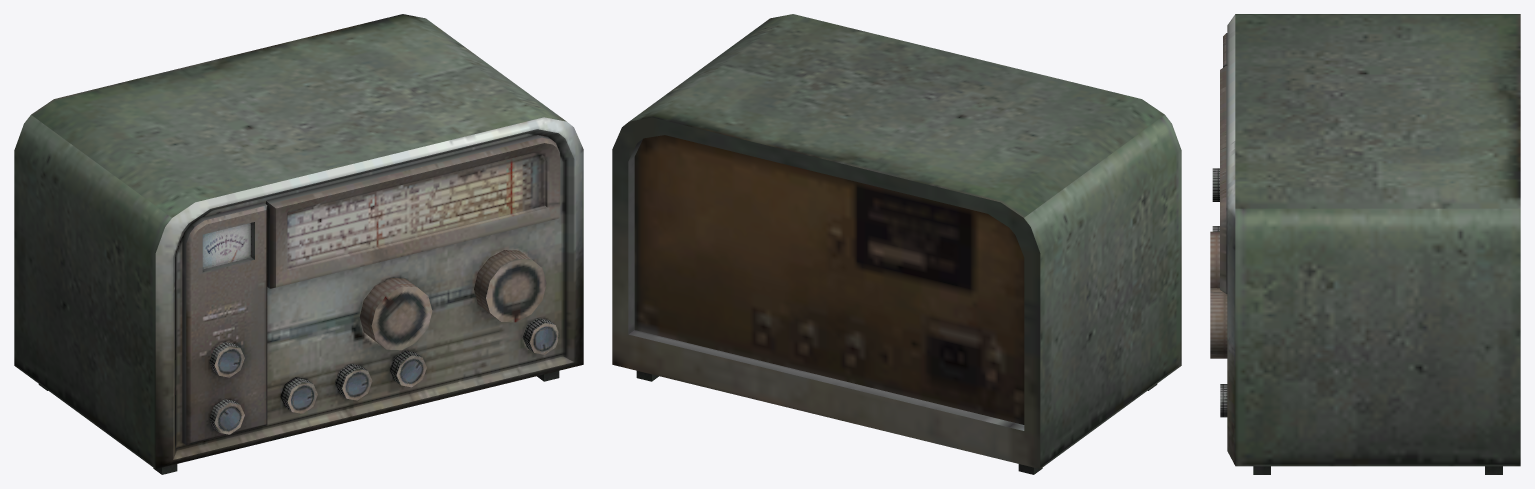
File: citizen_radio.glb
The picture shows the model from 3 angles, left to right: view 1: azimuth 30°, elevation 25°; view 2: azimuth 150°, elevation 25°; view 3: azimuth 270°, elevation 25°; orthographic projection.
Parts seen in each view (by area): view 1: Object_2; view 2: Object_2; view 3: Object_2.
Part boxes in pixels (box(x1,y1,x2,y2)): Object_2: box(14, 14, 583, 474); Object_2: box(612, 14, 1181, 474); Object_2: box(1210, 14, 1520, 474).
Size of the model in its own units: 2.67 by 1.63 by 1.66.
1 material, 1 textured.
